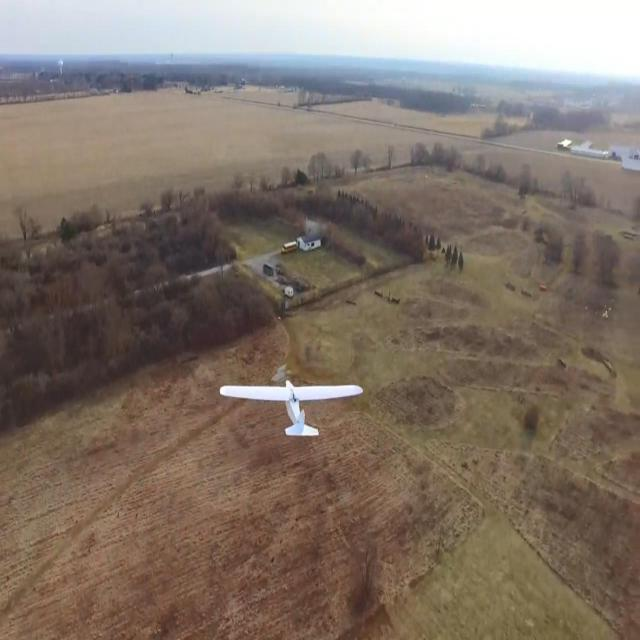iha: (180, 389, 370, 422)
